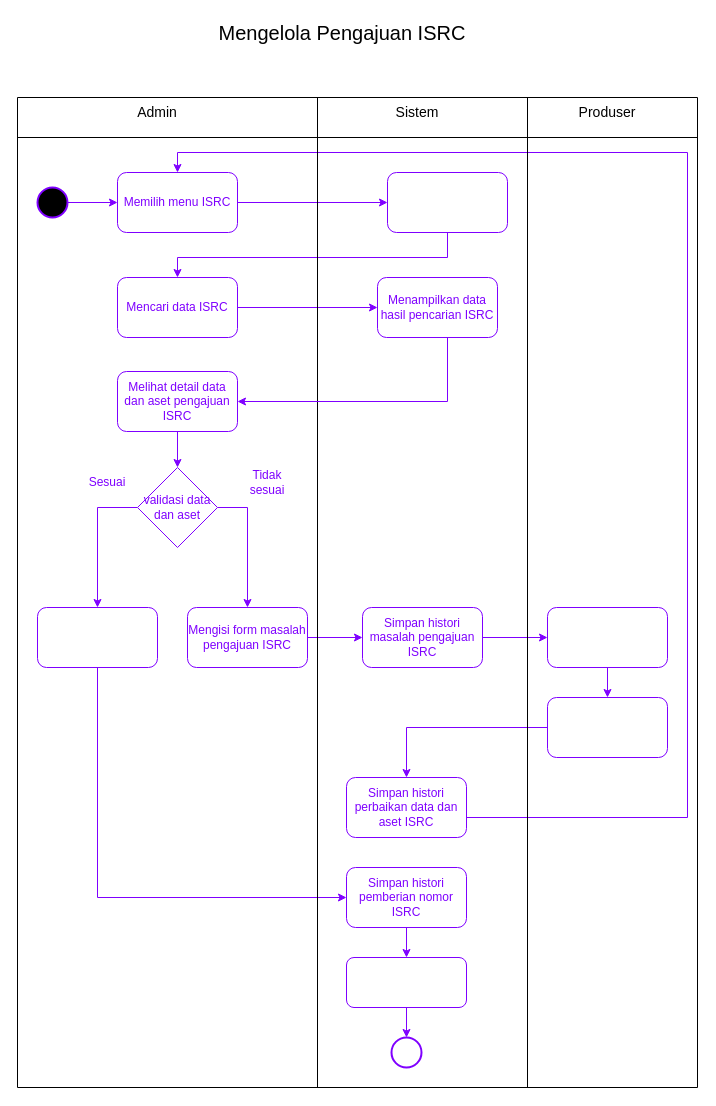
This 716x1106 diagram has some shape labels left out. The shapes that lost their labels are listed below. From the top down, each one's box as (x1, y1, x2, y2) in pixels, then its label:
(386, 172, 508, 232): Menampilkan list data pengajuan ISRC
(36, 606, 158, 668): Memberikan nomor ISRC
(546, 606, 668, 668): Melengkapi data dan aset pengajuan ISRC yang bermasalah
(546, 696, 668, 758): Menyimpan perbaikan data dan aset ISRC yang bermasalah
(346, 956, 466, 1008): Generate preview file
